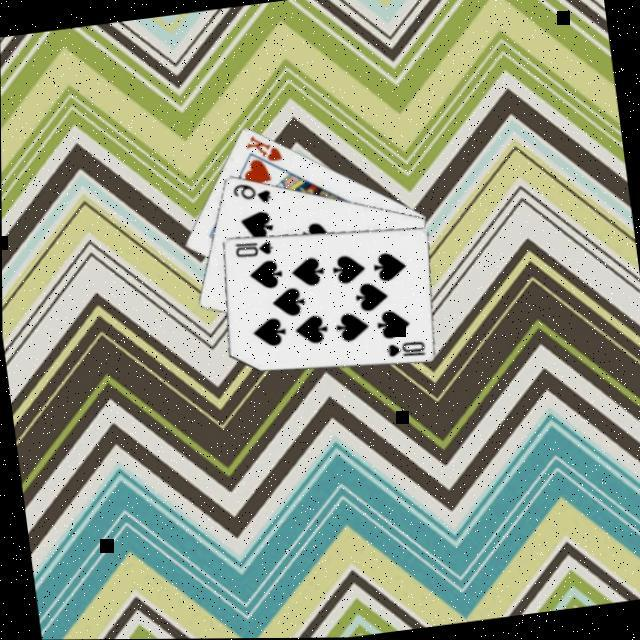10S: (231, 234, 277, 260), (383, 336, 429, 361)
6S: (230, 176, 275, 208)
KH: (242, 127, 286, 166)
